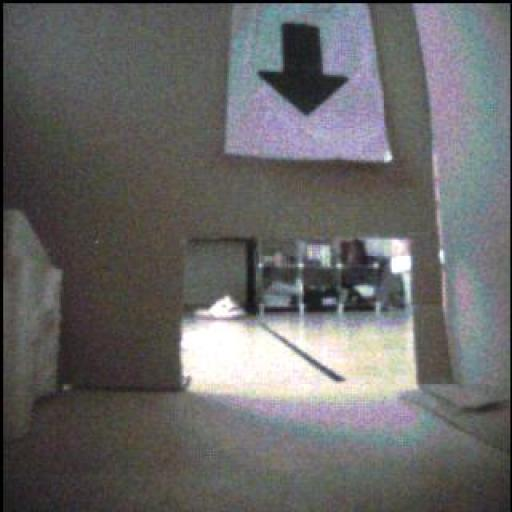arrow: (260, 25, 350, 116)
